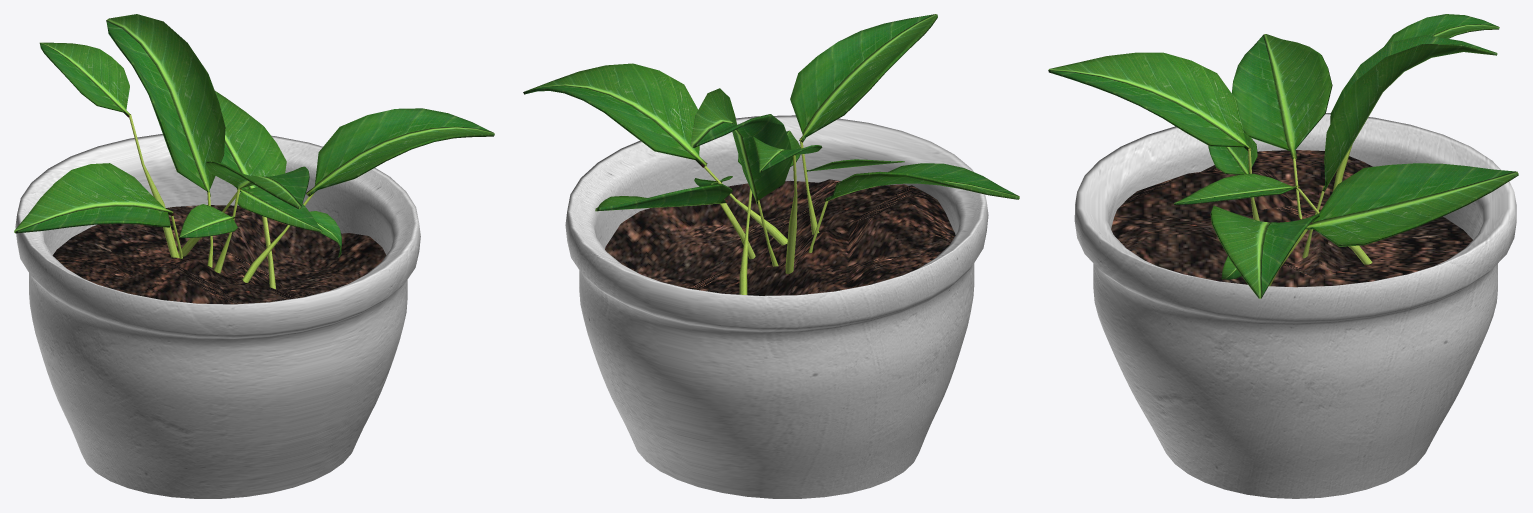
Rendered from src.glb.
The picture shows the model from 3 angles, left to right: view 1: azimuth 30°, elevation 25°; view 2: azimuth 150°, elevation 25°; view 3: azimuth 270°, elevation 25°; orthographic projection. The views are drawn at different scales.
Visible parts, largest first — view 1: Object_3, Object_4, Object_2, Object_5; view 2: Object_3, Object_4, Object_2, Object_5; view 3: Object_3, Object_4, Object_2, Object_5.
Boxes of the visible parts, x1,y1,x2,y2 form: Object_3: (15,134,420,498); Object_4: (14,14,494,257); Object_2: (52,205,386,304); Object_5: (129,114,314,289); Object_3: (565,115,988,498); Object_4: (523,14,1019,211); Object_2: (605,179,955,295); Object_5: (704,138,828,294); Object_3: (1074,113,1516,498); Object_4: (1048,14,1518,298); Object_2: (1111,150,1472,287); Object_5: (1248,144,1372,286).
Size of the model in its own units: 14.37 by 10.83 by 11.67.
Materials: 4 (4 with a texture image).
